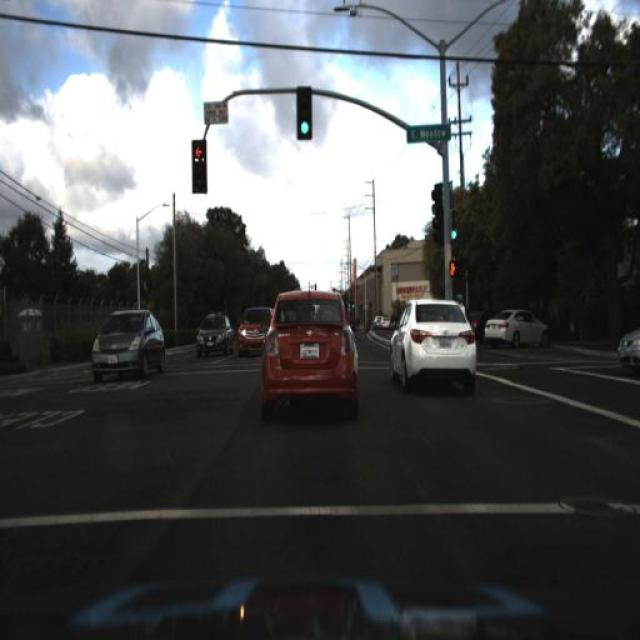car: (262, 288, 359, 418), (386, 294, 478, 397), (89, 306, 168, 384), (482, 308, 550, 350), (234, 300, 276, 359), (190, 311, 232, 360)
trafficLight-Green: (296, 84, 312, 138), (448, 207, 460, 241)
trafficLight-Yellow: (191, 135, 210, 190)
